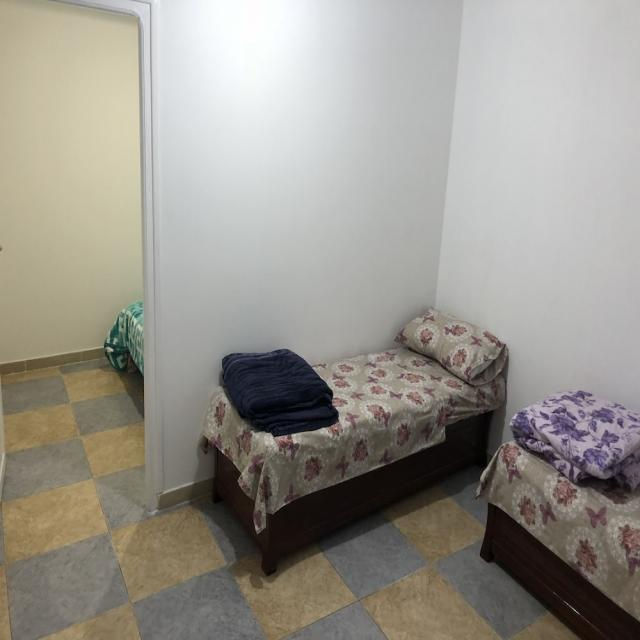bed: (230, 314, 525, 501), (462, 382, 640, 606)
door: (3, 6, 158, 516)
